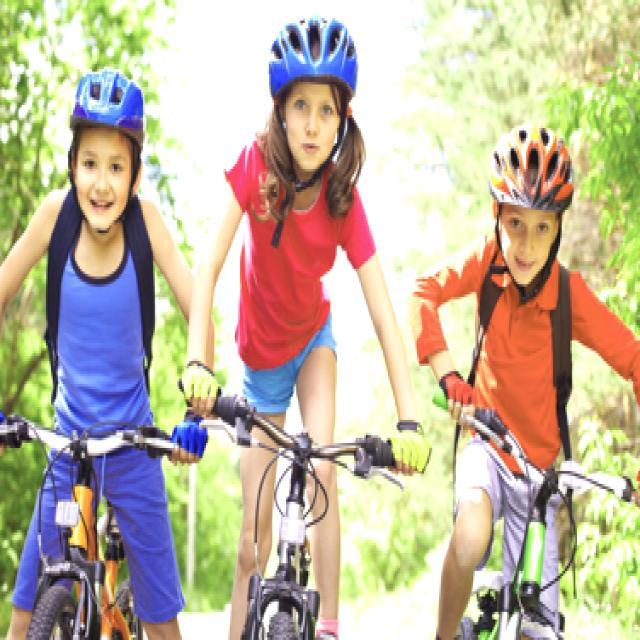Helmet: (483, 120, 577, 290), (260, 17, 364, 166), (67, 64, 146, 236)
